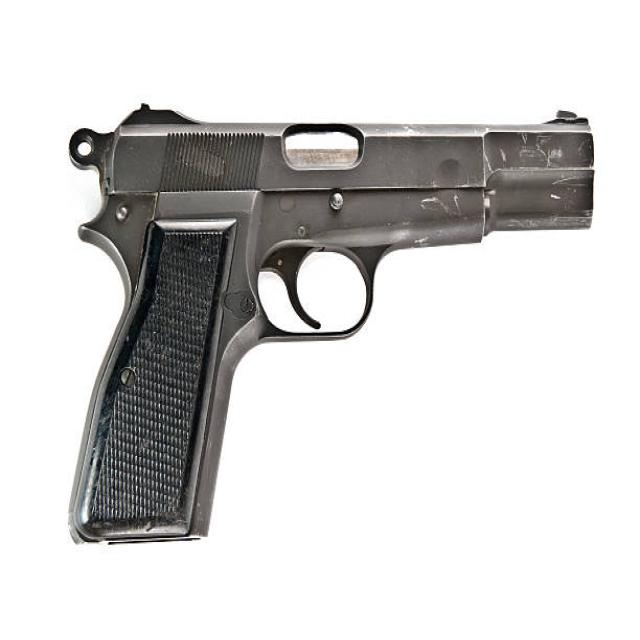pistol: (62, 103, 606, 557)
